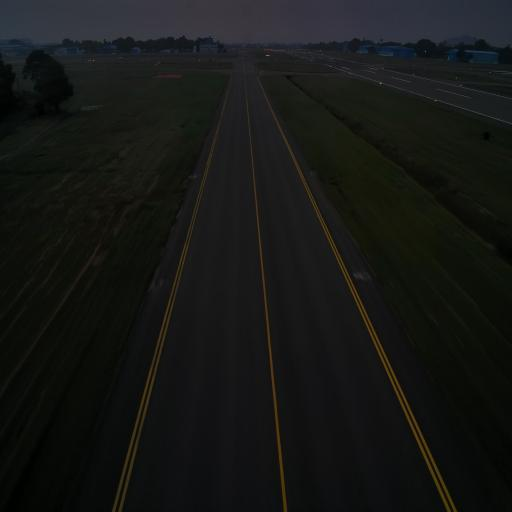on: (310, 170, 313, 174), (194, 172, 196, 176)
